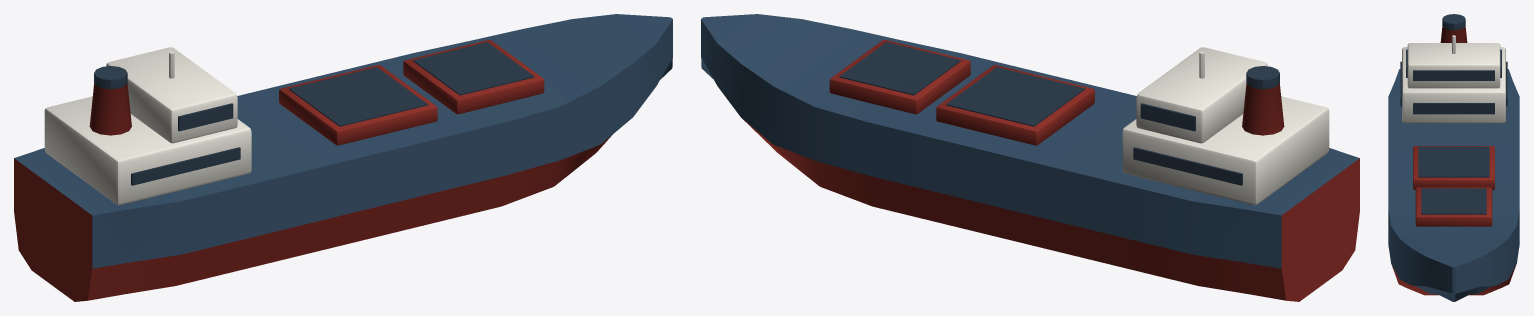
Rendered from ship.glb.
3 renders of one model, left to right at view 1: azimuth 30°, elevation 25°; view 2: azimuth 150°, elevation 25°; view 3: azimuth 270°, elevation 25°, orthographic. The views are drawn at different scales.
Visible parts, largest first — view 1: hull, boot, cabin, windows; view 2: hull, boot, cabin, windows; view 3: hull, cabin, windows, boot.
Part boxes in pixels (<box>): hull: <box>14,14,672,268</box>; boot: <box>14,40,612,301</box>; cabin: <box>44,47,251,205</box>; windows: <box>94,42,534,185</box>; hull: <box>701,14,1359,268</box>; boot: <box>742,40,1359,301</box>; cabin: <box>1122,47,1329,205</box>; windows: <box>839,42,1279,185</box>; hull: <box>1388,69,1519,301</box>; cabin: <box>1402,35,1505,123</box>; windows: <box>1400,14,1507,214</box>; boot: <box>1391,26,1516,295</box>.
Size of the model in its own units: 9.12 by 2.88 by 2.4.
